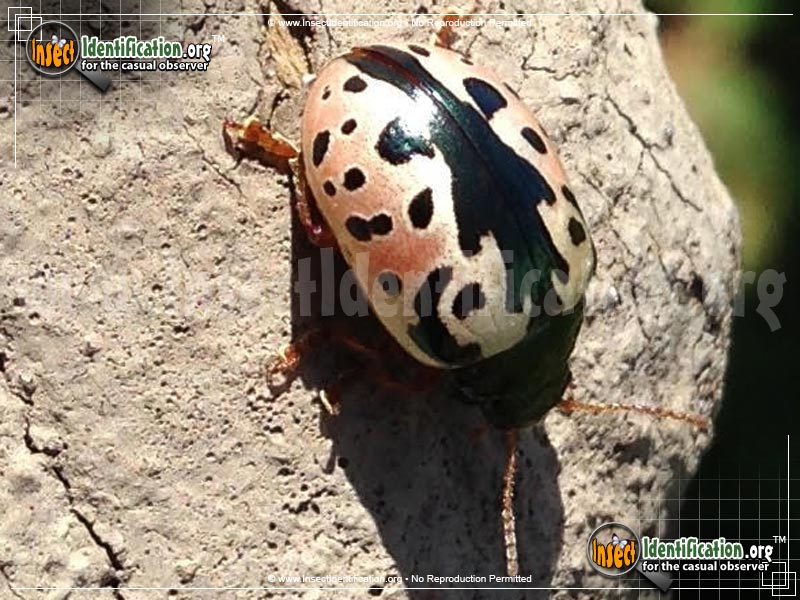Calligrapha Beetle: (222, 35, 614, 414)
